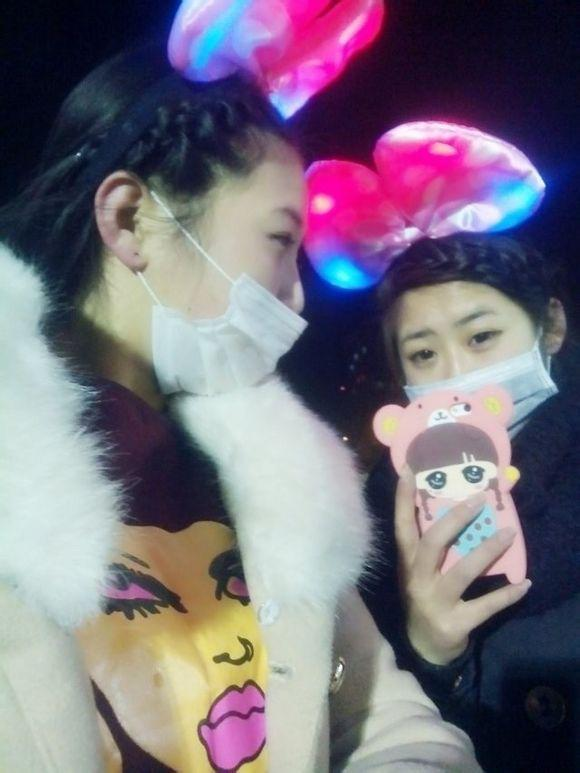WRONG: (132, 186, 306, 389), (390, 304, 550, 444)
